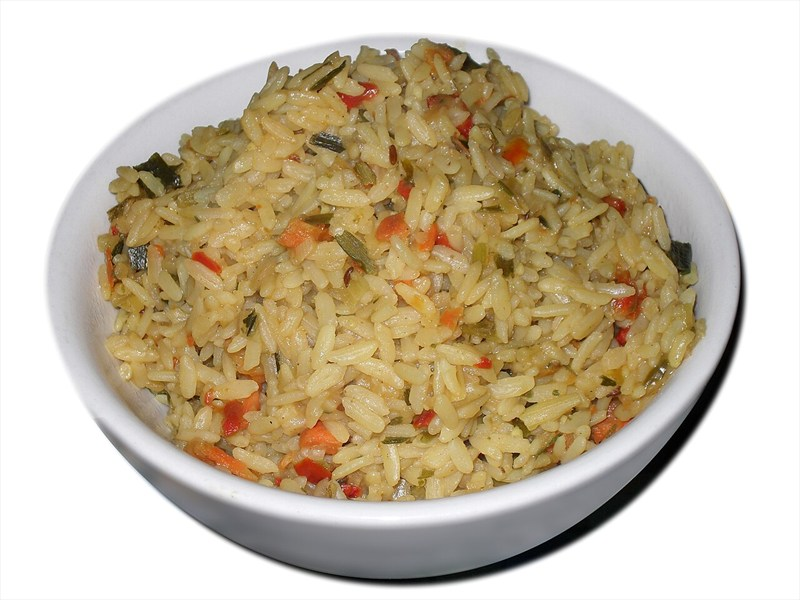Nasi Goreng: (112, 59, 698, 516)
